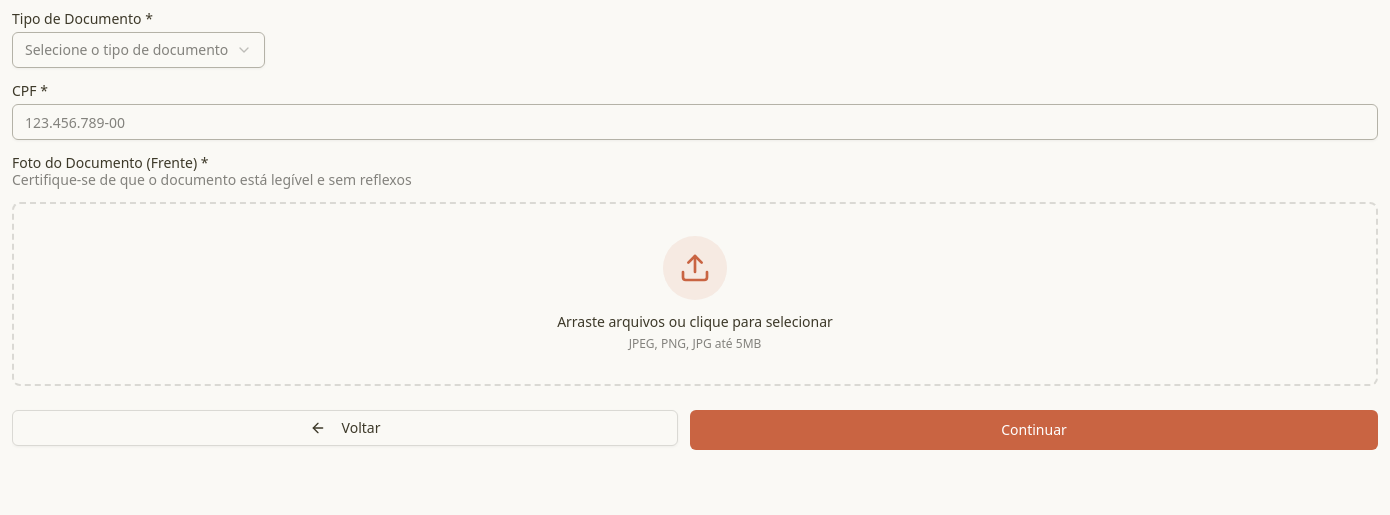
Test: IdentityStep › should display validation errors for empty fields
Click the button "Continuar" at (1034, 430), box [690,410,1378,450]
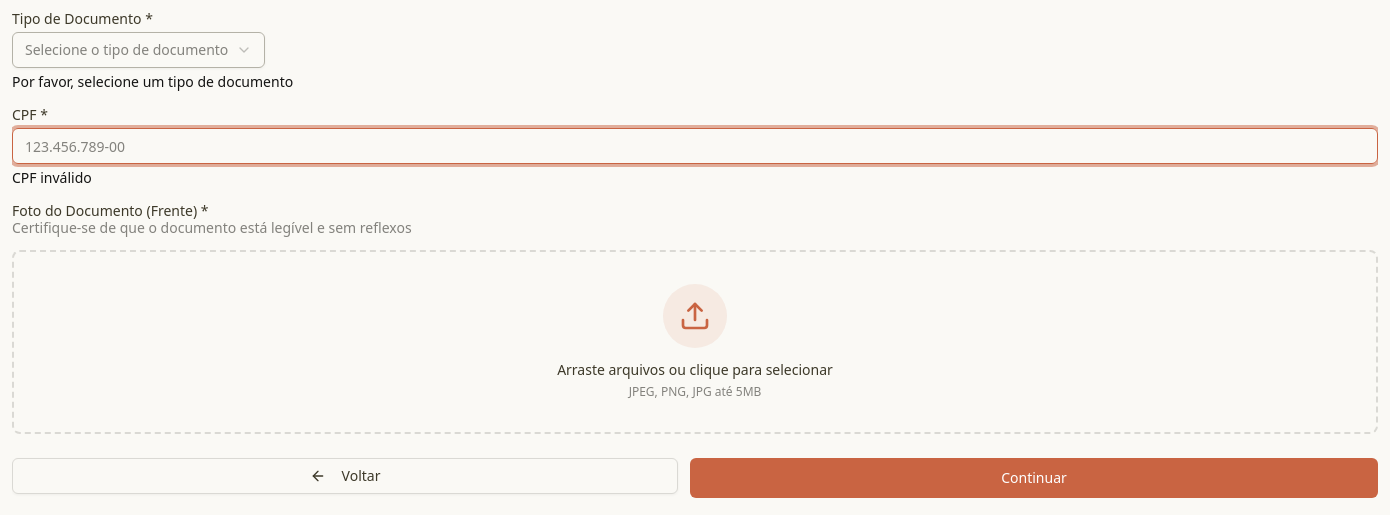
Check: the text "Por favor, selecione um tipo de documento" is shown, box [12,72,293,91]
